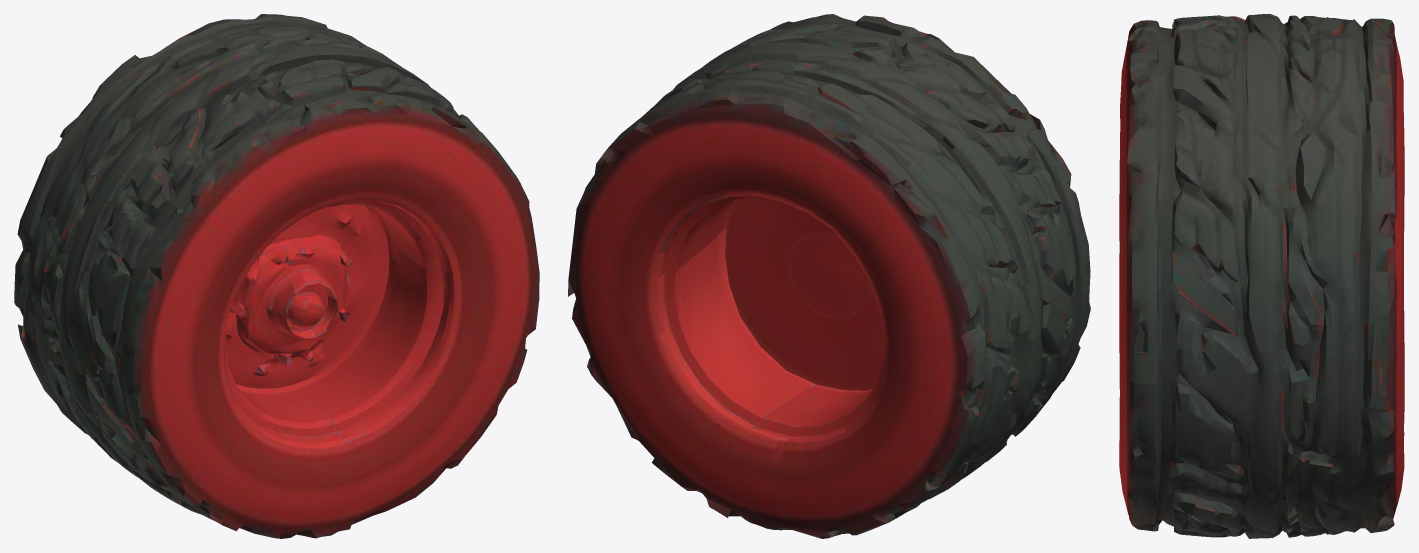
Rendered from dasz-wheel.glb.
3 views of the same model, side by side, from view 1: azimuth 30°, elevation 25°; view 2: azimuth 150°, elevation 25°; view 3: azimuth 270°, elevation 25° (orthographic). The views are drawn at different scales.
Visible parts, largest first — view 1: c540d6c3-wheel.glb; view 2: c540d6c3-wheel.glb; view 3: c540d6c3-wheel.glb.
Boxes of the visible parts, x1,y1,x2,y2 form: c540d6c3-wheel.glb: (14,14,539,538); c540d6c3-wheel.glb: (568,14,1090,538); c540d6c3-wheel.glb: (1119,14,1404,538).
Bounding box in the file's own units: 1.9 × 1.9 × 1.04.
Materials: 1 (1 with a texture image).
